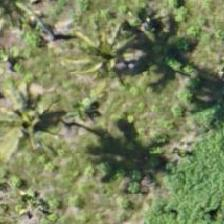coconut_tree: (0, 81, 64, 171)
